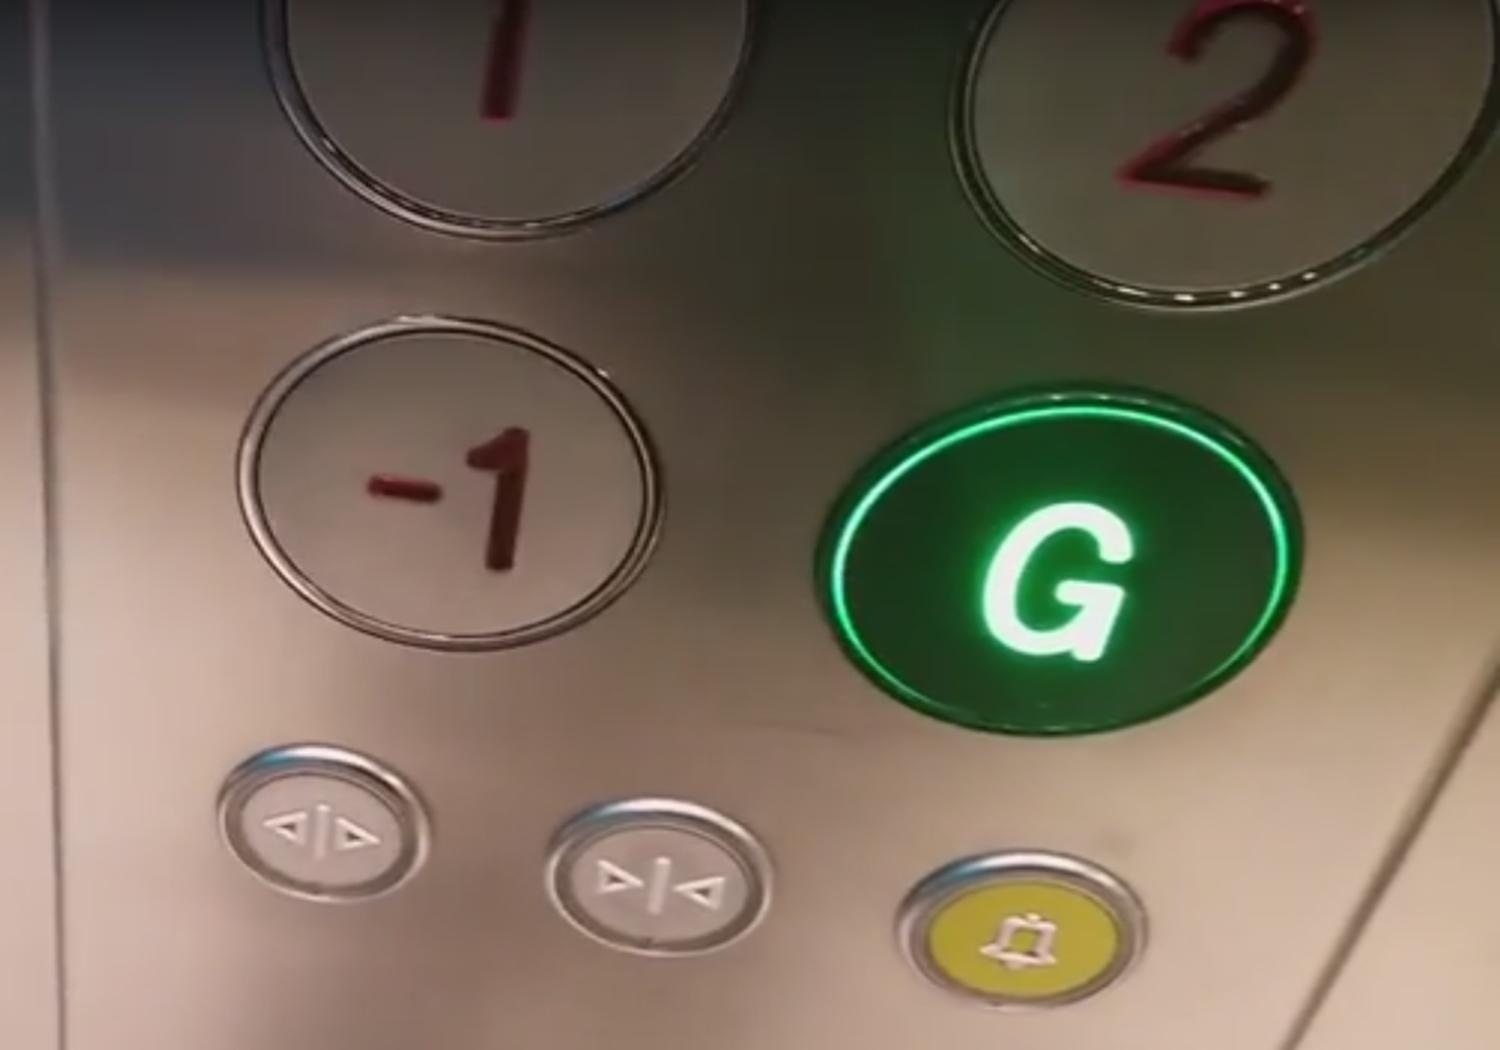-1: (237, 312, 669, 656)
2: (948, 7, 1500, 314)
G: (816, 386, 1310, 736)
alarm: (891, 843, 1144, 1004)
close: (537, 797, 778, 957)
open: (215, 742, 432, 900)
